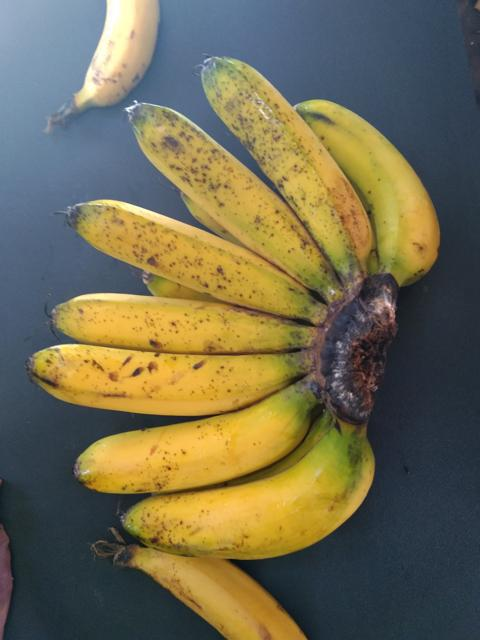ripe: (204, 44, 379, 278), (123, 422, 385, 571), (122, 98, 321, 289), (47, 202, 321, 320), (308, 90, 461, 282), (65, 389, 319, 498), (20, 340, 329, 418), (41, 279, 325, 354), (96, 539, 286, 639), (57, 0, 159, 104)
